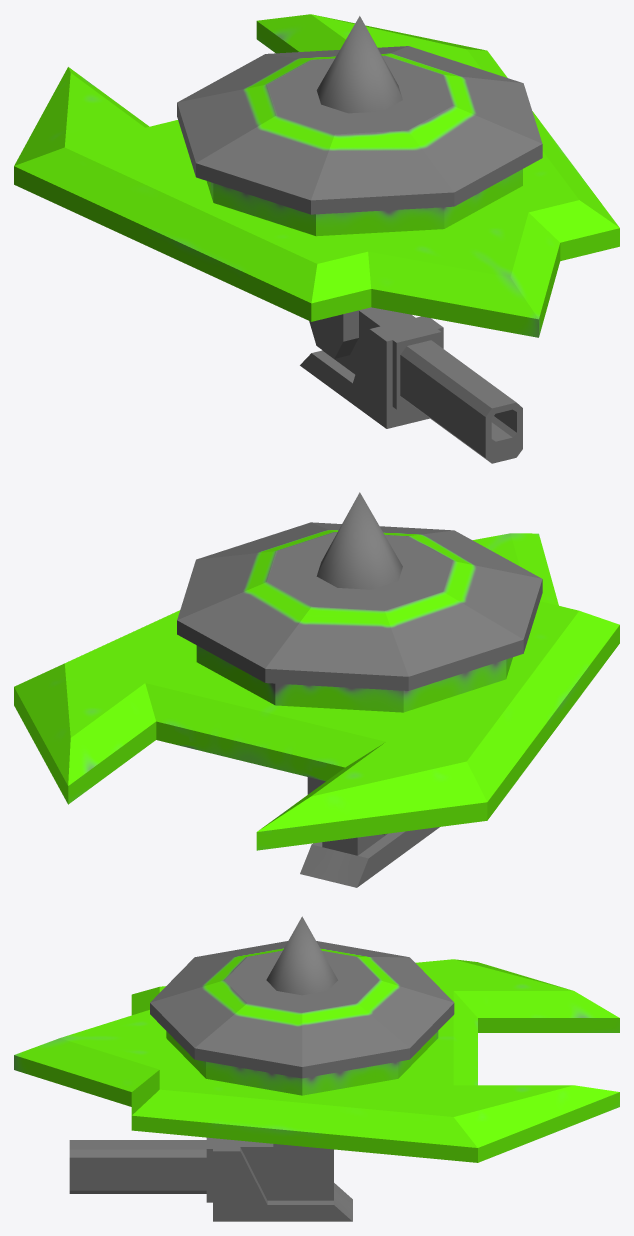
File: UFO_Speed.fbx
3 renders of one model, top to bottom at view 1: azimuth 30°, elevation 25°; view 2: azimuth 150°, elevation 25°; view 3: azimuth 270°, elevation 25°, orthographic. The views are drawn at different scales.
Visible parts, largest first — view 1: P_UFO_Speed; view 2: P_UFO_Speed; view 3: P_UFO_Speed.
Part boxes in pixels (box(x1,y1,x2,y2)): P_UFO_Speed: box(14, 14, 619, 463); P_UFO_Speed: box(14, 492, 619, 887); P_UFO_Speed: box(14, 916, 619, 1221).
Size of the model in its own units: 2.5 by 1.85 by 3.45.
1 material, 1 textured.
